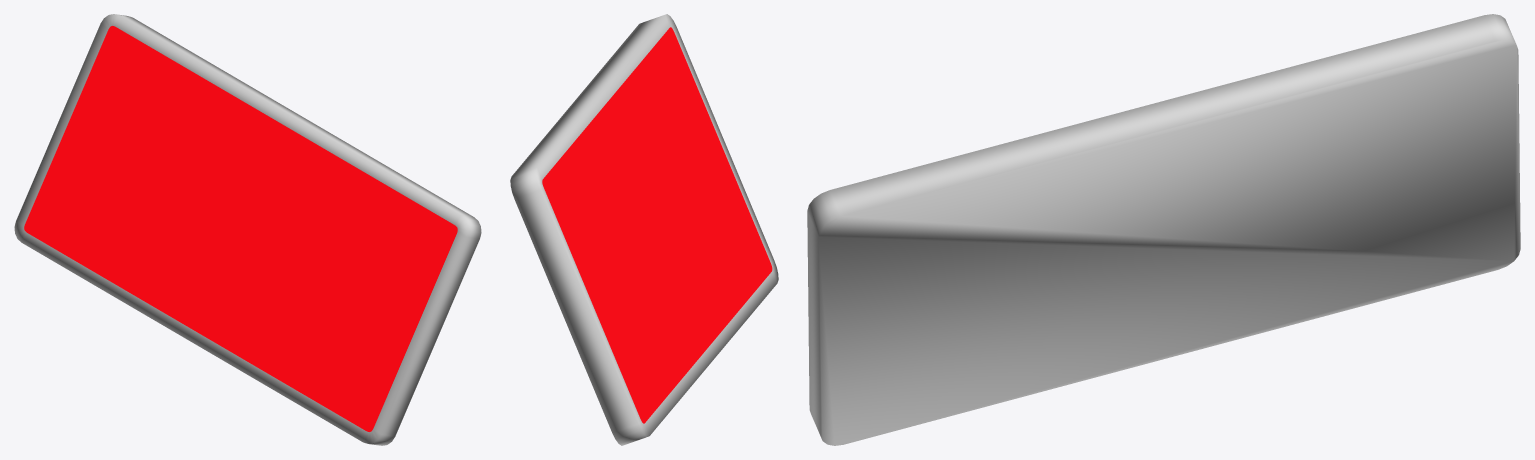
File: anim_train_phone.glb
3 views of the same model, side by side, from view 1: azimuth 30°, elevation 25°; view 2: azimuth 150°, elevation 25°; view 3: azimuth 270°, elevation 25° (orthographic). The views are drawn at different scales.
Visible parts, largest first — view 1: Phone; view 2: Phone; view 3: Phone.
Part boxes in pixels (x1,y1,x2,y2): Phone: (14, 14, 481, 445); Phone: (510, 14, 778, 445); Phone: (807, 14, 1520, 445).
Size of the model in its own units: 0.0839 by 0.0953 by 0.153.
